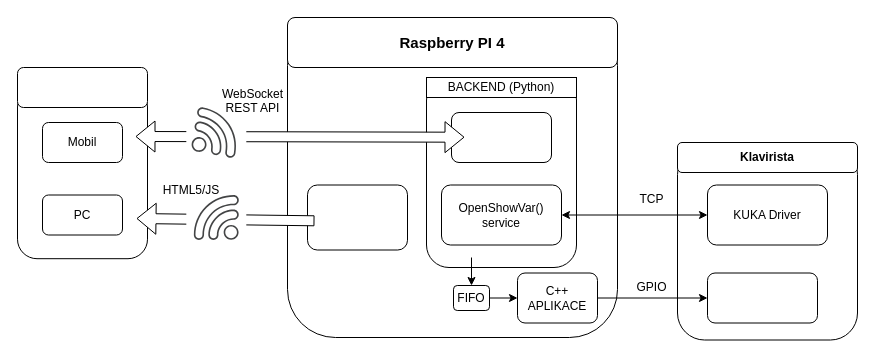
This 875x358 diagram has some shape labels left out. The centre of each missing label's shape, as x and y in pixels:
"FAST API SERVER" belongs at point 501,137.
"LED Osvětlení" belongs at point 762,297.
"Uživatel (Frontend)" belongs at point 82,87.
"Webový server (React Native)" belongs at point 357,217.
